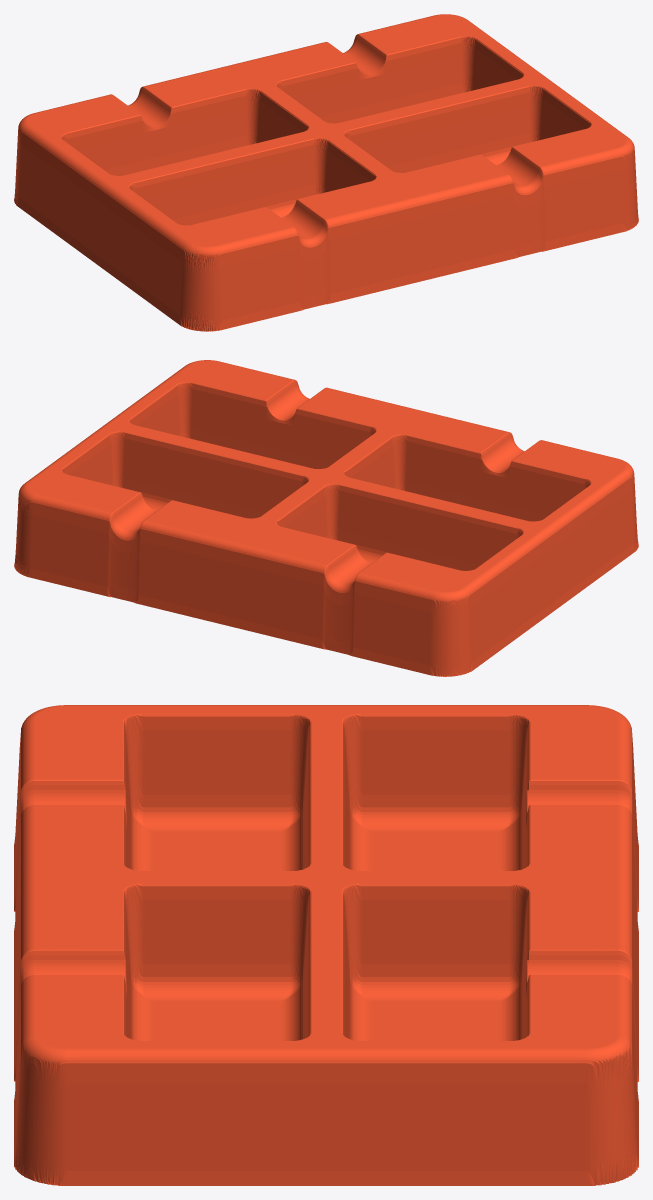
File: mold.glb
3 views of the same model, one above another, from view 1: azimuth 30°, elevation 25°; view 2: azimuth 150°, elevation 25°; view 3: azimuth 270°, elevation 25° (orthographic). The views are drawn at different scales.
Parts seen in each view (by area): view 1: geometry_0; view 2: geometry_0; view 3: geometry_0.
Boxes of the visible parts, x1=… form: geometry_0: x1=14, y1=14, x2=638, y2=331; geometry_0: x1=14, y1=360, x2=638, y2=676; geometry_0: x1=14, y1=705, x2=638, y2=1185.
Bounding box in the file's own units: 0.1468 × 0.0245 × 0.1078.
